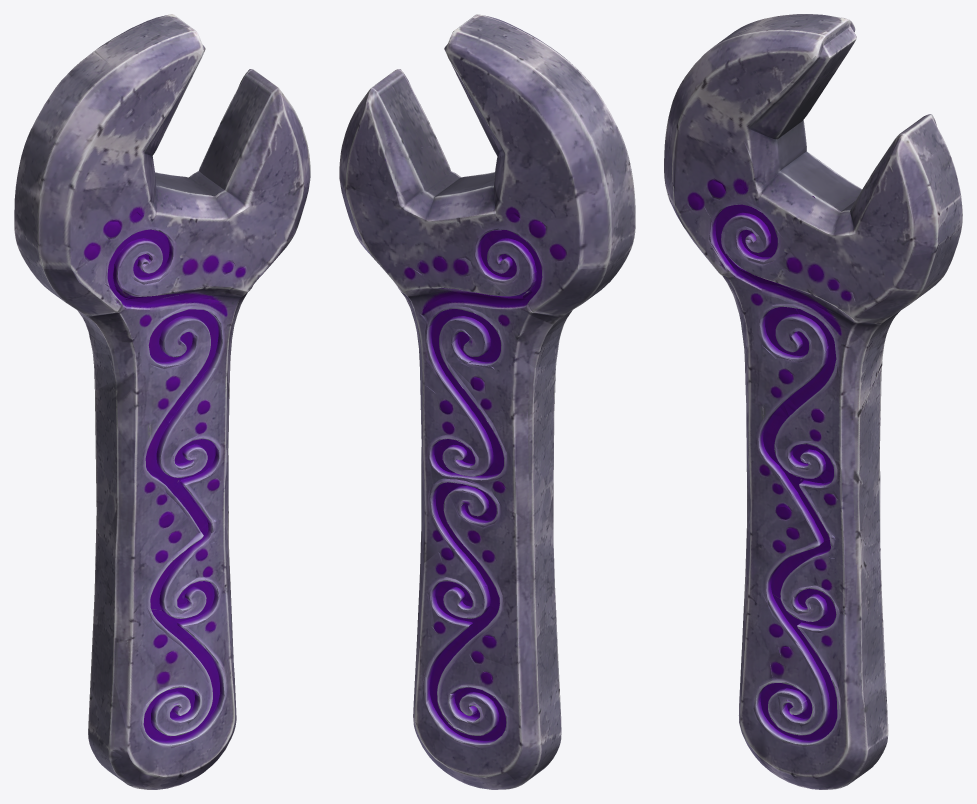
Rendered from wrench.glb.
3 views of the same model, side by side, from view 1: azimuth 30°, elevation 25°; view 2: azimuth 150°, elevation 25°; view 3: azimuth 330°, elevation 25° (orthographic).
Visible parts, largest first — view 1: Mesh_0; view 2: Mesh_0; view 3: Mesh_0.
Part boxes in pixels (<box>): Mesh_0: <box>14,14,310,789</box>; Mesh_0: <box>339,14,635,789</box>; Mesh_0: <box>664,14,962,789</box>.
Bounding box in the file's own units: 0.7173 × 1.9 × 0.2161.
Materials: 1 (1 with a texture image).
